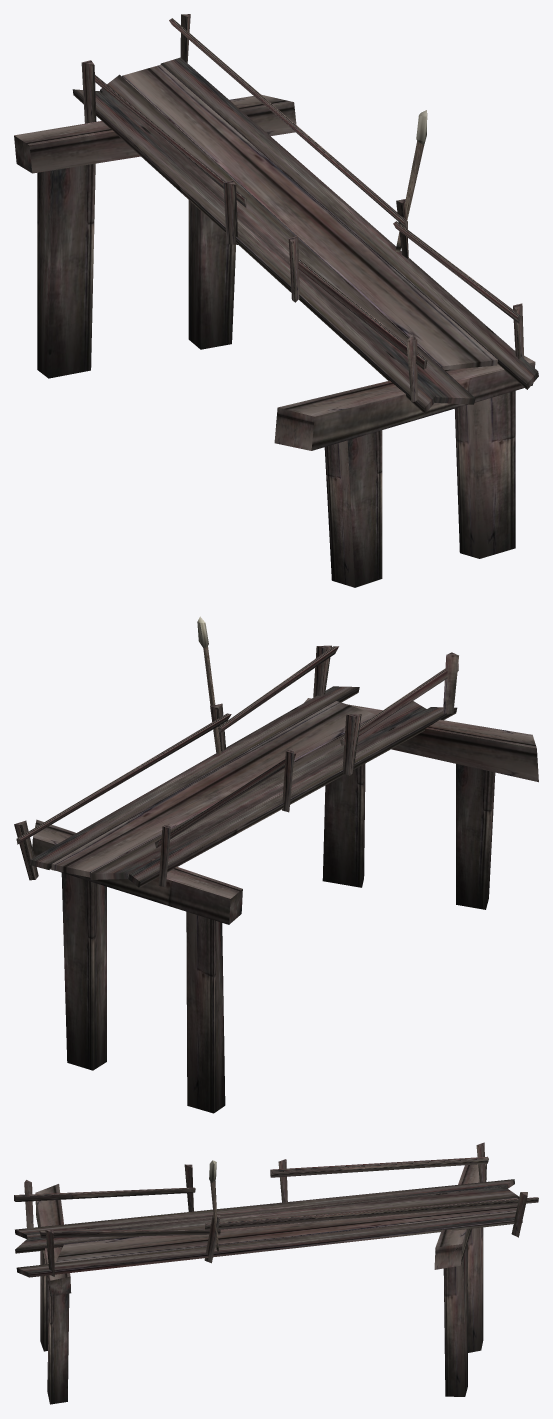
The model's file is pir_m_prp_swm_catwalk_withposts.fbx.
The picture shows the model from 3 angles, top to bottom: view 1: azimuth 30°, elevation 25°; view 2: azimuth 150°, elevation 25°; view 3: azimuth 270°, elevation 25°; orthographic projection. The views are drawn at different scales.
Parts seen in each view (by area): view 1: TablePlank30, plank45, plank58, TablePlank31, TablePlank148, TablePlank32, plank56, plank57, plank54, plank53, balconypost130, balconypost129 (+5 smaller); view 2: TablePlank30, plank53, plank45, TablePlank148, TablePlank31, plank56, TablePlank32, plank57, plank54, plank58, balconypost130, balconypost129 (+7 smaller); view 3: TablePlank30, TablePlank31, TablePlank32, TablePlank148, plank53, plank58, balconypost130, plank45, balconypost128, plank54, plank56, balconypost129 (+6 smaller).
Part boxes in pixels (x1=…): TablePlank30: x1=122, y1=64, x2=497, y2=369; plank45: x1=37, y1=163, x2=95, y2=378; plank58: x1=454, y1=390, x2=515, y2=558; TablePlank31: x1=160, y1=57, x2=538, y2=389; TablePlank148: x1=72, y1=89, x2=436, y2=413; TablePlank32: x1=100, y1=74, x2=475, y2=404; plank56: x1=274, y1=355, x2=535, y2=450; plank57: x1=324, y1=430, x2=382, y2=587; plank54: x1=14, y1=94, x2=296, y2=173; plank53: x1=188, y1=200, x2=235, y2=349; balconypost130: x1=169, y1=18, x2=407, y2=229; balconypost129: x1=298, y1=259, x2=427, y2=369; TablePlank30: x1=51, y1=701, x2=376, y2=877; plank53: x1=61, y1=872, x2=106, y2=1070; plank45: x1=186, y1=911, x2=225, y2=1113; TablePlank148: x1=128, y1=707, x2=457, y2=887; TablePlank31: x1=29, y1=686, x2=359, y2=869; plank56: x1=304, y1=698, x2=538, y2=782; TablePlank32: x1=89, y1=701, x2=426, y2=879; plank57: x1=456, y1=764, x2=495, y2=909; plank54: x1=32, y1=819, x2=242, y2=924; plank58: x1=322, y1=763, x2=365, y2=887; balconypost130: x1=16, y1=713, x2=231, y2=844; balconypost129: x1=340, y1=663, x2=458, y2=745; TablePlank30: x1=55, y1=1197, x2=517, y2=1263; TablePlank31: x1=16, y1=1212, x2=522, y2=1277; TablePlank32: x1=15, y1=1186, x2=519, y2=1253; TablePlank148: x1=15, y1=1179, x2=514, y2=1238; plank53: x1=443, y1=1243, x2=467, y2=1396; plank58: x1=47, y1=1290, x2=69, y2=1404; balconypost130: x1=205, y1=1197, x2=538, y2=1230; plank45: x1=468, y1=1227, x2=483, y2=1352; balconypost128: x1=270, y1=1156, x2=488, y2=1177; plank54: x1=434, y1=1164, x2=486, y2=1269; plank56: x1=35, y1=1184, x2=71, y2=1296; balconypost129: x1=14, y1=1187, x2=195, y2=1201.
Size of the model in its own units: 2504 by 2970 by 5586.
Materials: 2 (2 with a texture image).
